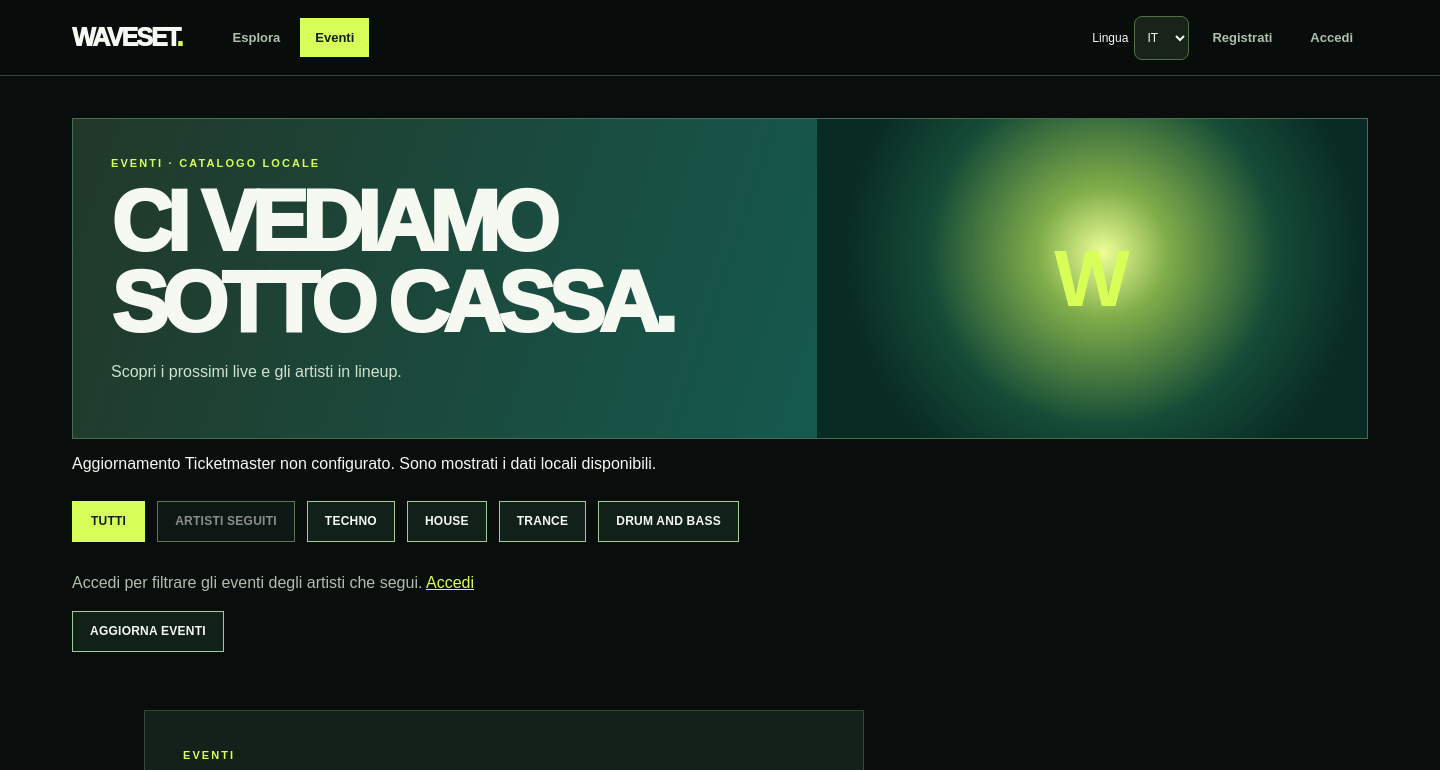
Test: cambio filtro durante aggiornamento ignora la risposta precedente
The width and height of the screenshot is (1440, 770).
Click the button "Aggiorna eventi" at point(148, 632), box [72,611,224,652]
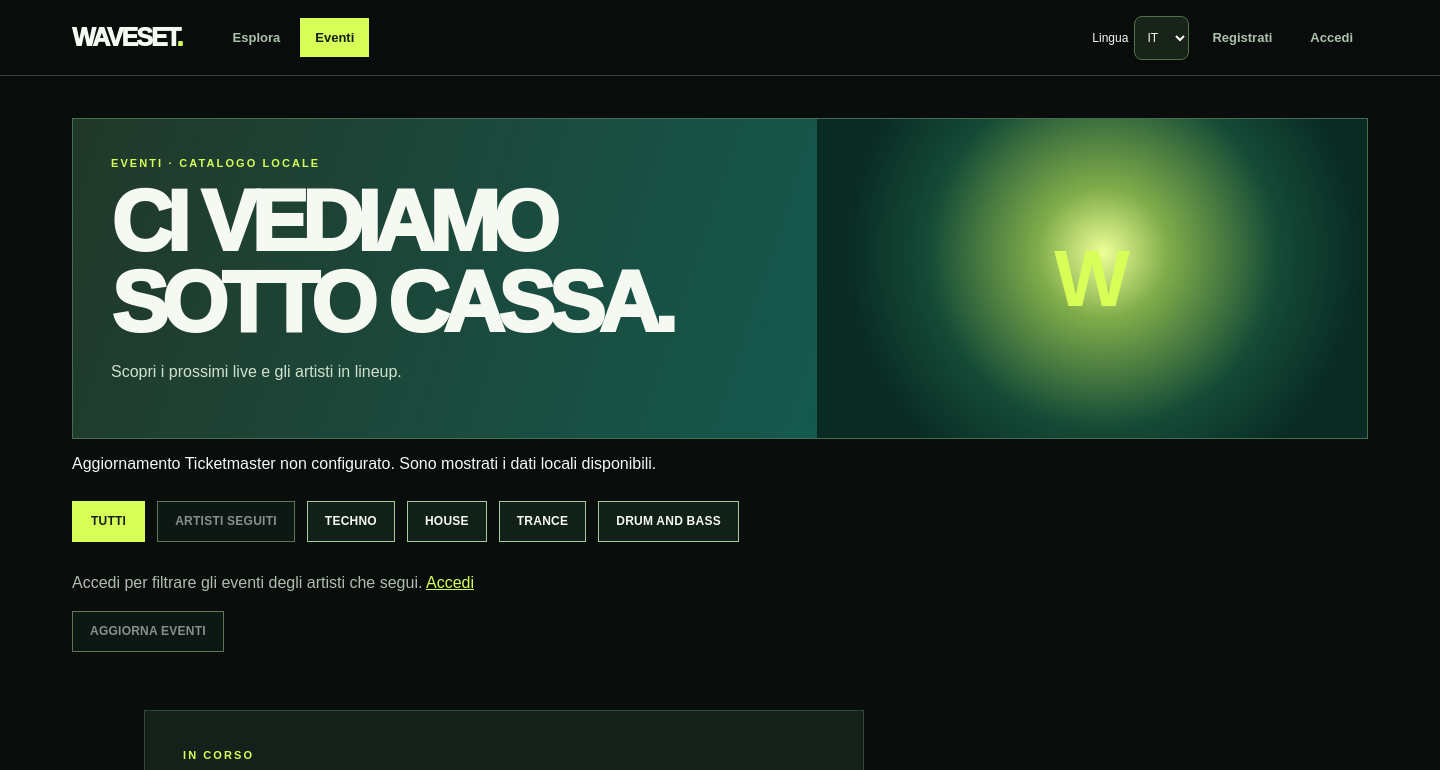
Click the button "Techno" at point(351, 522), box [307,501,395,542]
(page scrolled)
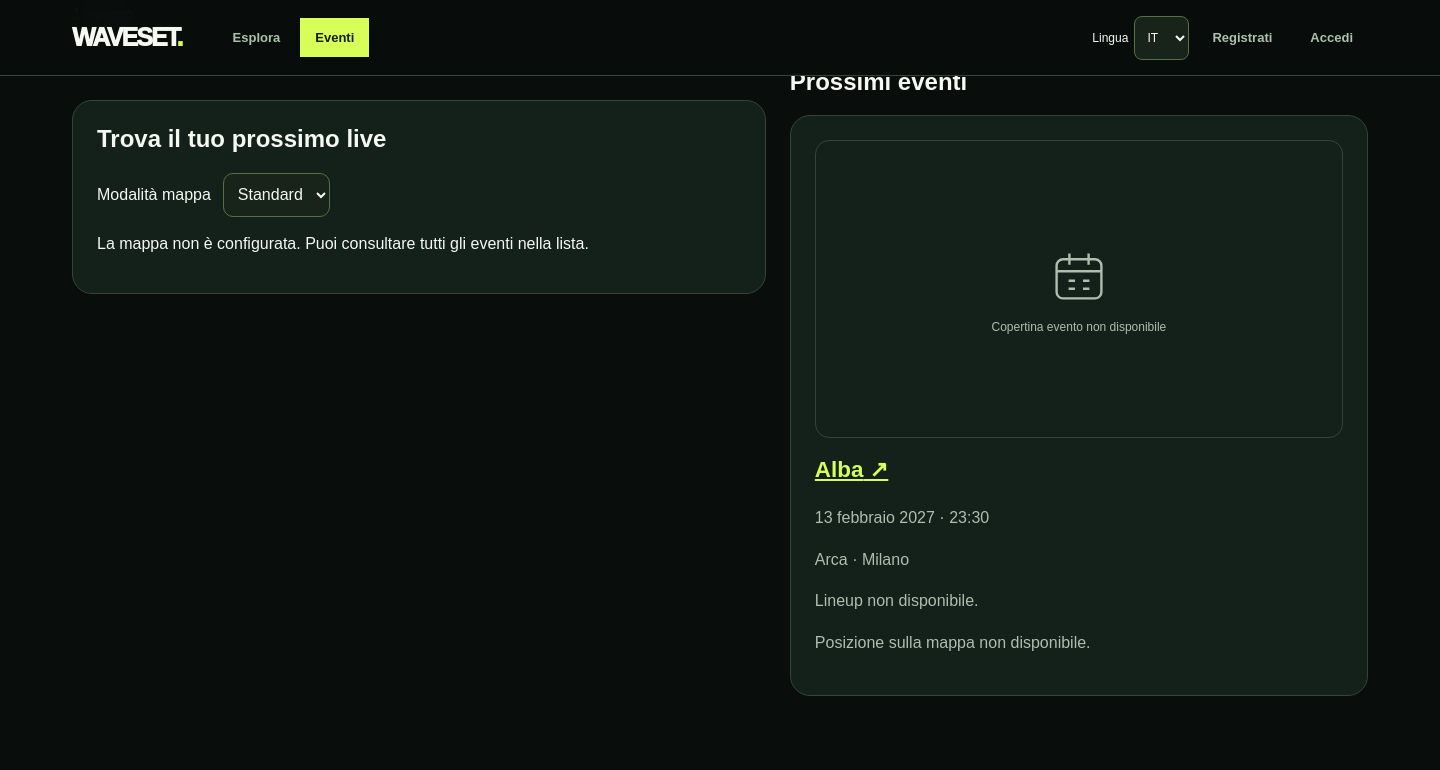
Expected: the element "Alba" is shown, [790,116,1368,696]
